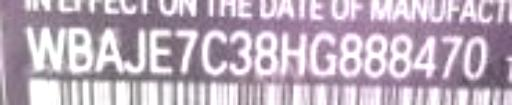letter: (22, 22, 68, 71), (92, 21, 126, 76), (306, 24, 340, 79), (279, 24, 309, 81), (146, 21, 176, 76), (410, 33, 442, 82), (63, 22, 93, 73), (171, 25, 201, 76), (199, 27, 229, 78), (224, 27, 254, 78), (252, 30, 282, 79), (462, 33, 492, 82), (122, 21, 148, 76), (334, 27, 362, 78), (362, 30, 390, 79), (388, 33, 414, 82), (440, 32, 466, 79)
